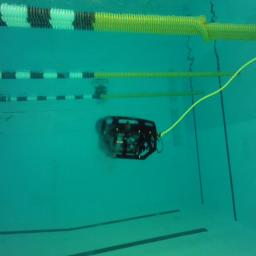Side: (96, 114, 158, 160)
